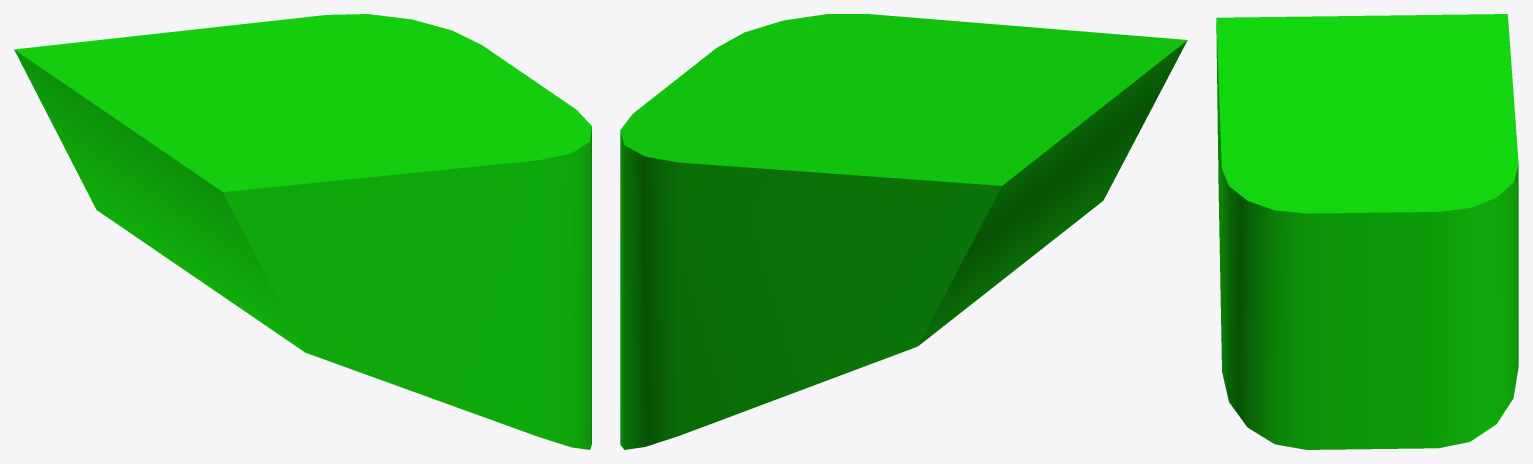
File: sm_castle_028.fbx
The picture shows the model from 3 angles, left to right: view 1: azimuth 30°, elevation 25°; view 2: azimuth 150°, elevation 25°; view 3: azimuth 270°, elevation 25°; orthographic projection. The views are drawn at different scales.
Parts seen in each view (by area): view 1: sm_castle.028; view 2: sm_castle.028; view 3: sm_castle.028.
Boxes of the visible parts, x1=… form: sm_castle.028: x1=14, y1=14, x2=591, y2=449; sm_castle.028: x1=620, y1=14, x2=1187, y2=449; sm_castle.028: x1=1216, y1=14, x2=1518, y2=449.
Bounding box in the file's own units: 361 × 313 × 302.
